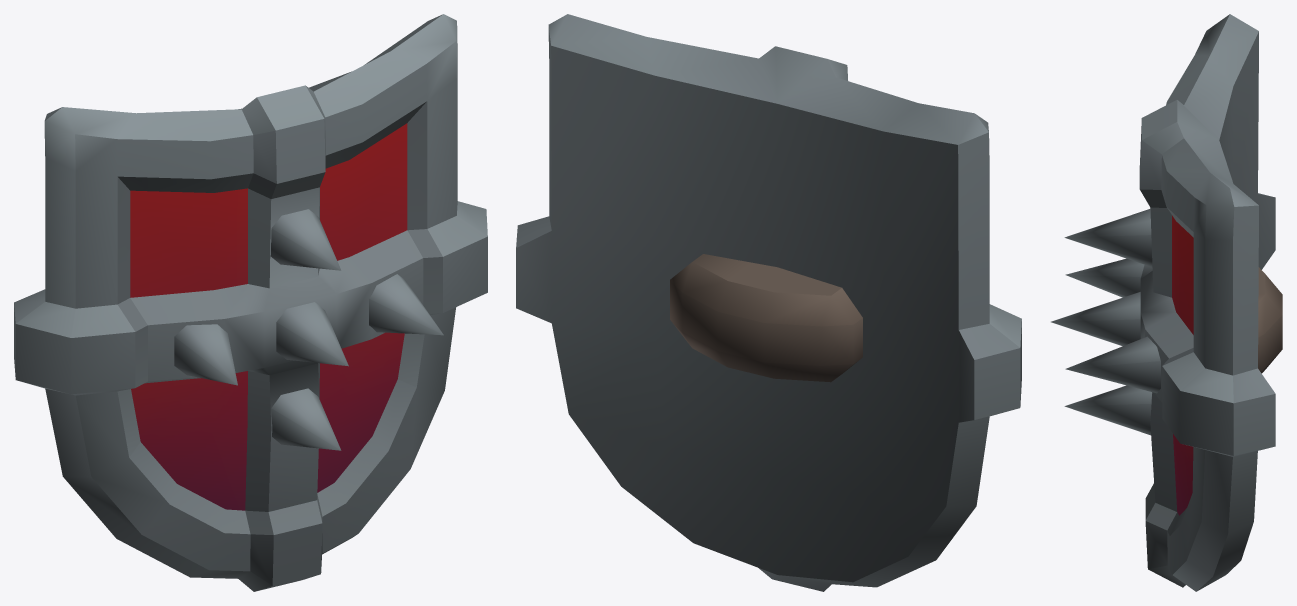
File: XA_shield_spikes_color.glb
3 renders of one model, left to right at view 1: azimuth 30°, elevation 25°; view 2: azimuth 150°, elevation 25°; view 3: azimuth 270°, elevation 25°, orthographic. The views are drawn at different scales.
Visible parts, largest first — view 1: shield_spikes_color; view 2: shield_spikes_color; view 3: shield_spikes_color.
Part boxes in pixels (x1,y1,x2,y2): shield_spikes_color: [14, 14, 487, 591]; shield_spikes_color: [516, 14, 1021, 591]; shield_spikes_color: [1051, 14, 1282, 591].
Size of the model in its own units: 1.01 by 1.04 by 0.4598.
